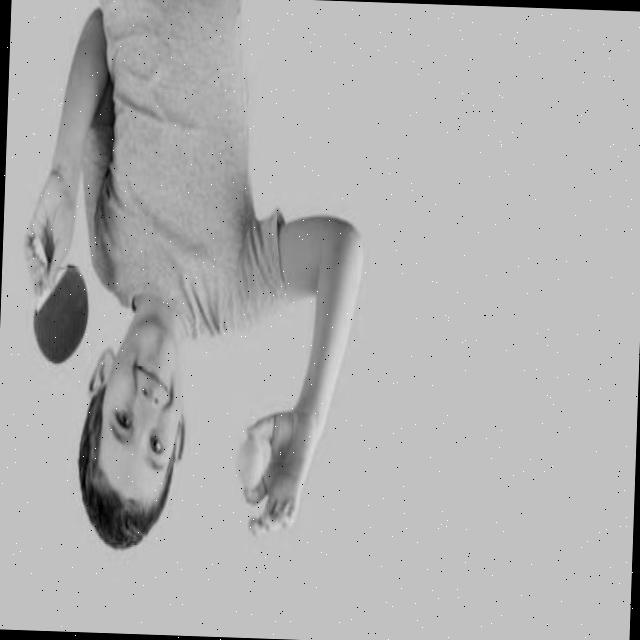ping-pong-ball: (237, 444, 262, 485)
